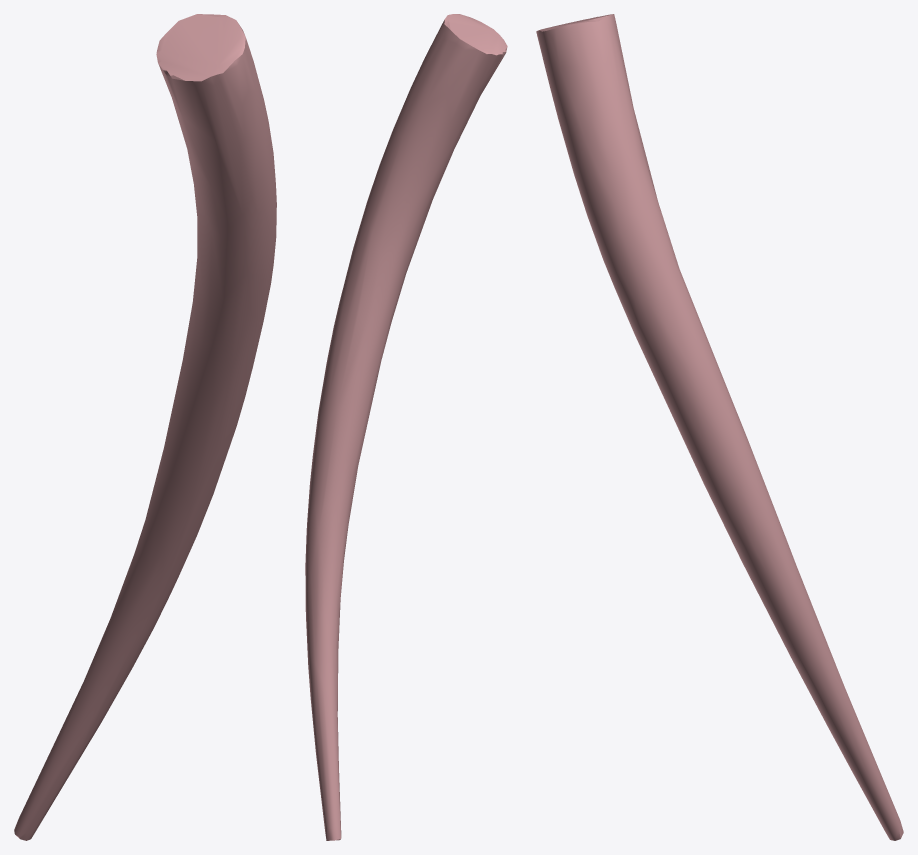
The model's file is fma68233_fj2446.glb.
3 views of the same model, side by side, from view 1: azimuth 30°, elevation 25°; view 2: azimuth 150°, elevation 25°; view 3: azimuth 270°, elevation 25° (orthographic). The views are drawn at different scales.
Parts seen in each view (by area): view 1: FMA68233_FJ2446; view 2: FMA68233_FJ2446; view 3: FMA68233_FJ2446.
Part boxes in pixels (x1,y1,x2,y2): FMA68233_FJ2446: [14, 14, 276, 840]; FMA68233_FJ2446: [305, 14, 507, 840]; FMA68233_FJ2446: [536, 14, 903, 840].
Bounding box in the file's own units: 0.0174 × 0.1017 × 0.0409.
